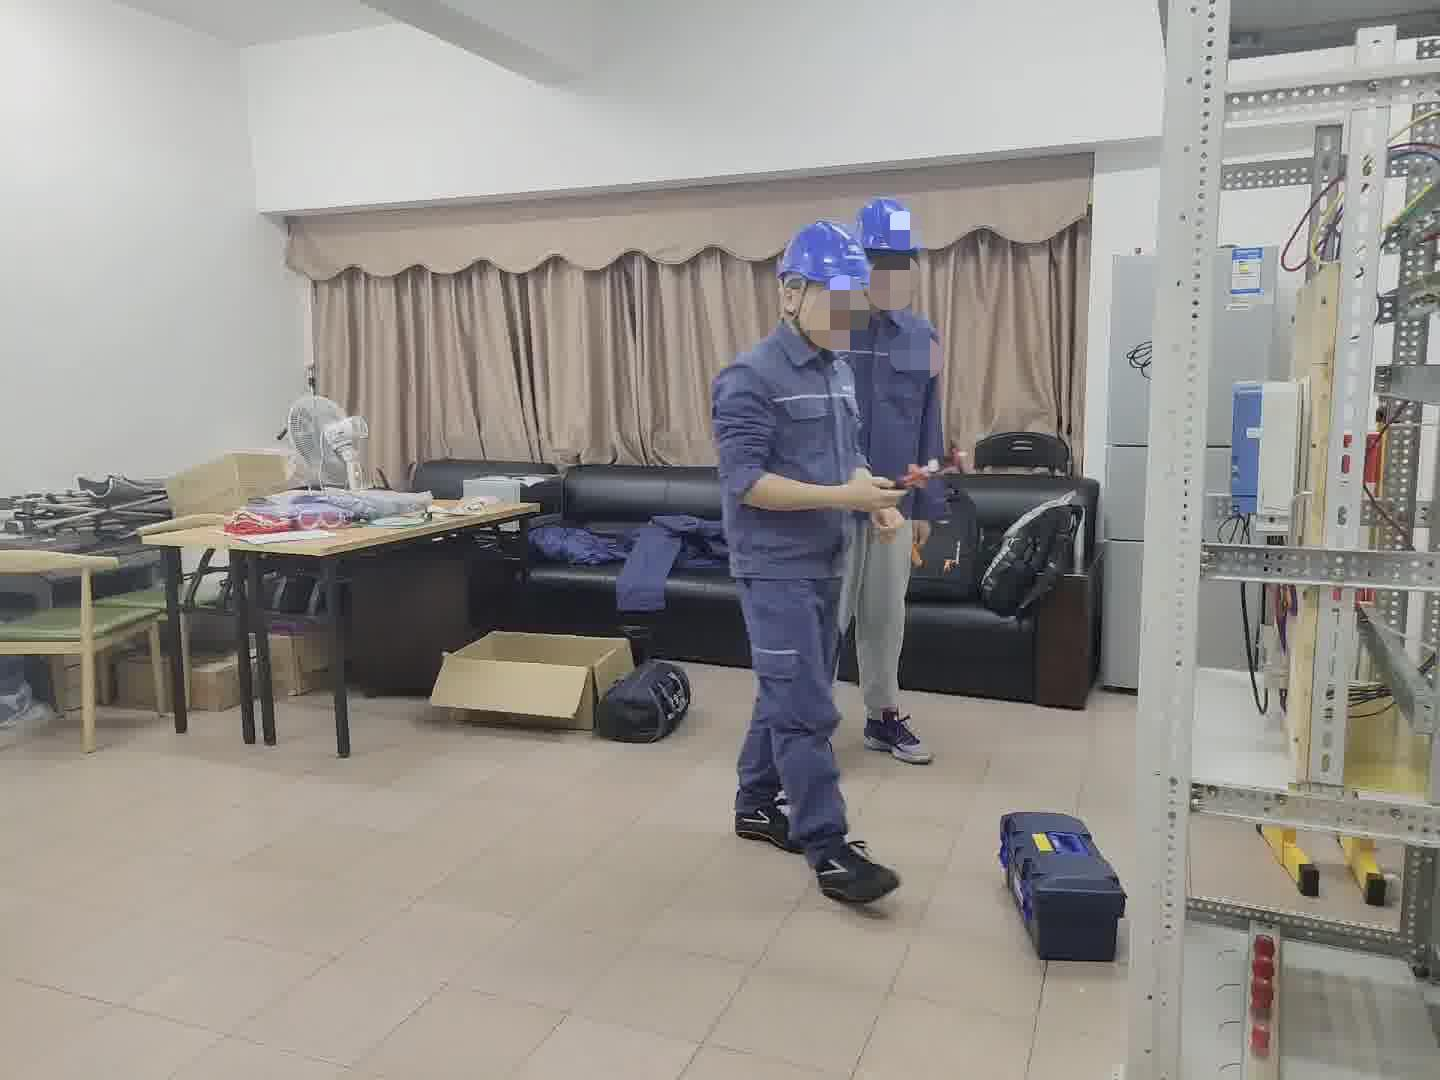halt: (774, 222, 881, 349), (858, 197, 930, 297)
inear: (777, 278, 820, 331)
